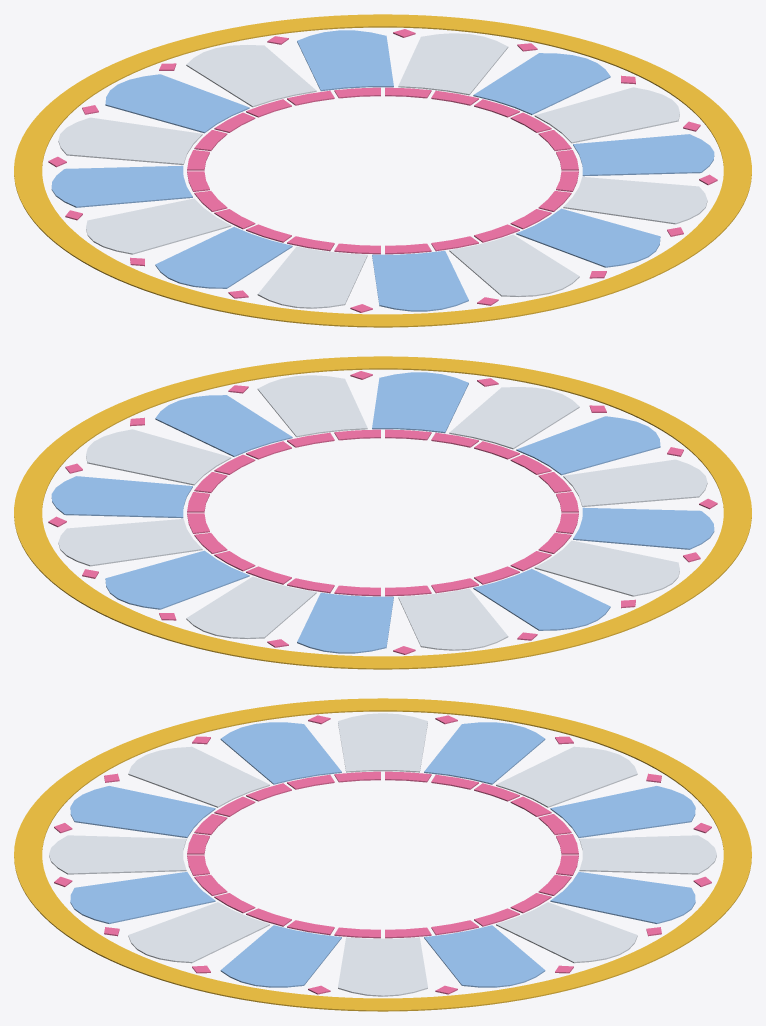
File: LobbyCourt.obj
3 views of the same model, one above another, from view 1: azimuth 30°, elevation 25°; view 2: azimuth 150°, elevation 25°; view 3: azimuth 270°, elevation 25° (orthographic).
Visible parts, largest first — view 1: RayA, RayB, Ring, Accent; view 2: RayA, RayB, Ring, Accent; view 3: RayB, RayA, Ring, Accent.
Boxes of the visible parts, left/top/right/bottom form: RayA: left=58, top=33, right=707, bottom=308; RayB: left=51, top=30, right=714, bottom=311; Ring: left=14, top=14, right=751, bottom=327; Accent: left=48, top=29, right=717, bottom=312; RayA: left=58, top=375, right=707, bottom=650; RayB: left=51, top=372, right=714, bottom=653; Ring: left=14, top=356, right=751, bottom=669; Accent: left=48, top=371, right=717, bottom=654; RayB: left=70, top=722, right=695, bottom=987; RayA: left=49, top=713, right=716, bottom=996; Ring: left=14, top=698, right=751, bottom=1011; Accent: left=54, top=715, right=711, bottom=994.
Size of the model in its own units: 55 by 0.1 by 55.
